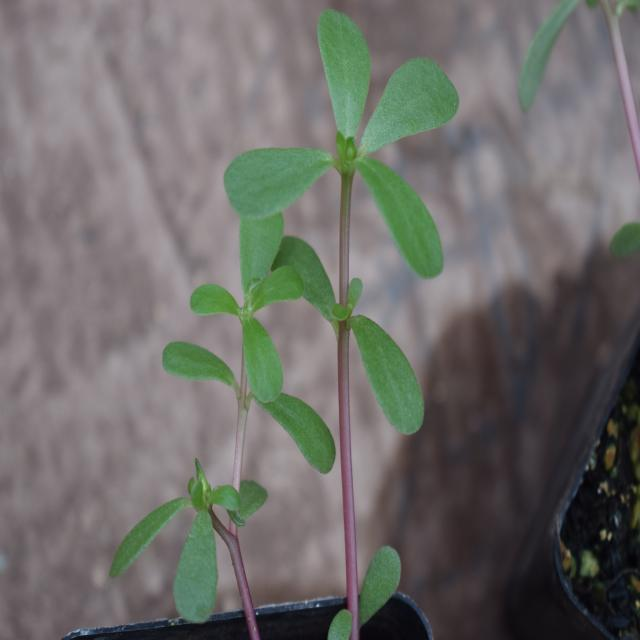purslane: (126, 11, 491, 602)
